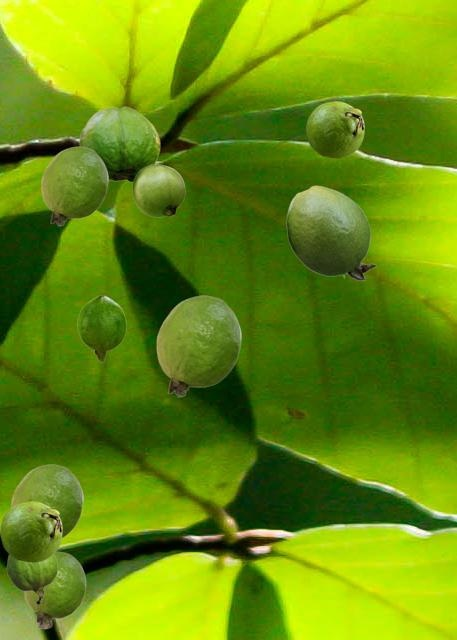guava: (156, 295, 240, 396), (286, 185, 375, 279), (79, 106, 159, 181), (11, 464, 82, 538), (41, 146, 107, 225), (24, 551, 85, 628), (0, 501, 61, 561), (306, 101, 363, 157), (77, 295, 125, 361), (132, 164, 184, 216), (6, 554, 56, 603)
